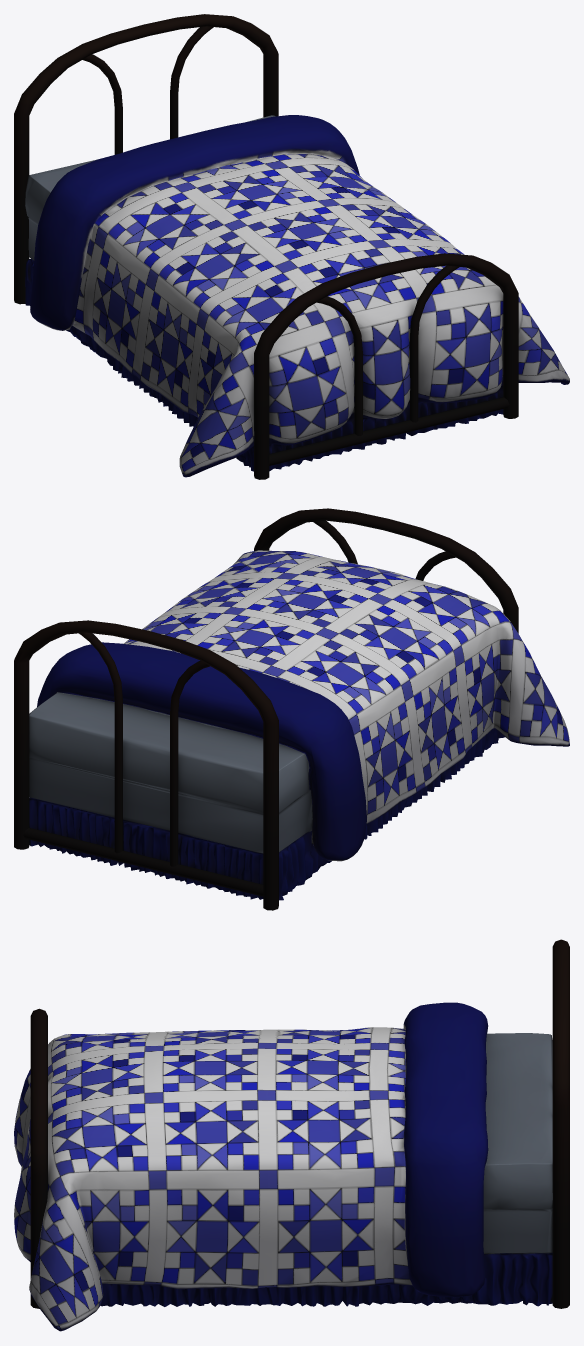
3 renders of one model, top to bottom at view 1: azimuth 30°, elevation 25°; view 2: azimuth 150°, elevation 25°; view 3: azimuth 270°, elevation 25°, orthographic. The views are drawn at different scales.
Parts seen in each view (by area): view 1: Bed_low, Bedframe_low; view 2: Bed_low, Bedframe_low; view 3: Bed_low, Bedframe_low.
Boxes of the visible parts, x1,y1,x2,y2 form: Bed_low: [25, 115, 569, 477]; Bedframe_low: [14, 14, 518, 479]; Bed_low: [29, 550, 569, 900]; Bedframe_low: [14, 508, 518, 910]; Bed_low: [14, 1002, 552, 1331]; Bedframe_low: [30, 939, 569, 1308].
Size of the model in its own units: 558 by 338 by 639.
Materials: 1 (1 with a texture image).
